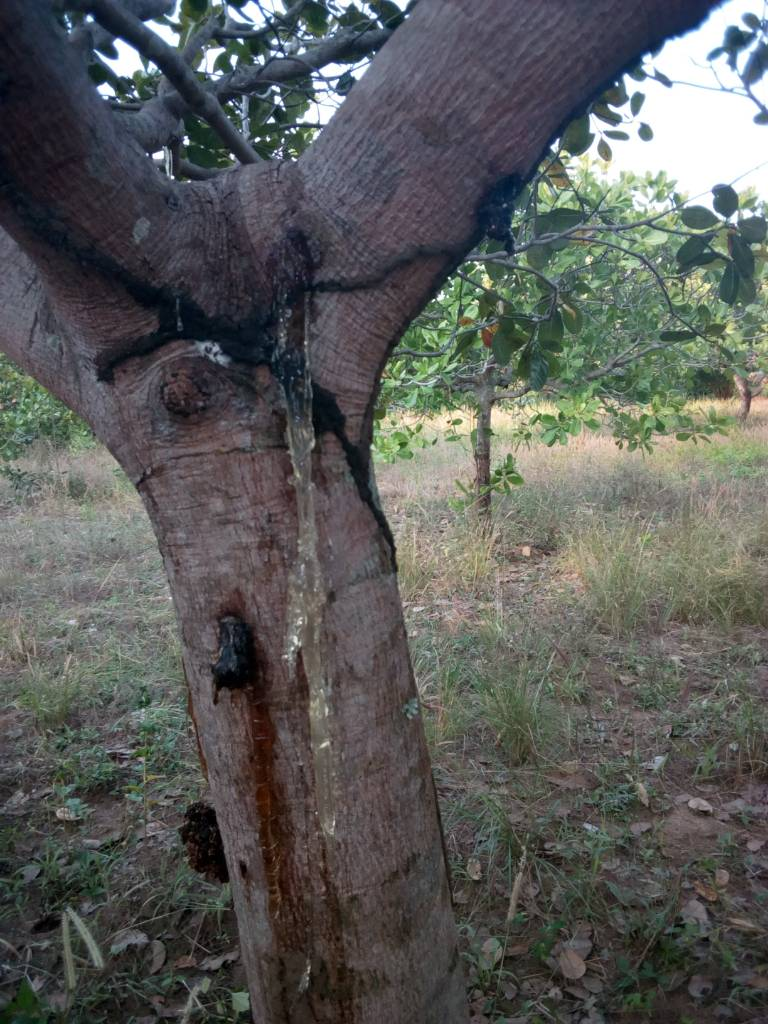Mecocorynus longiceps: (252, 260, 386, 858), (159, 780, 262, 892), (191, 605, 274, 713)
